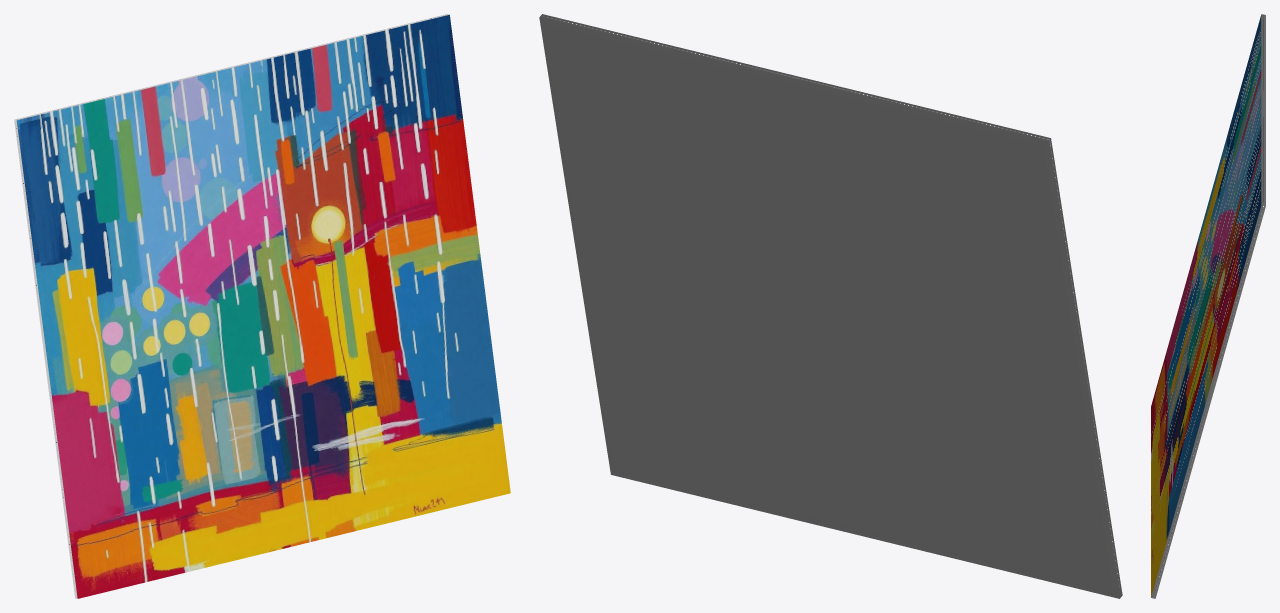
File: single_artwork_gloss.glb
3 views of the same model, side by side, from view 1: azimuth 30°, elevation 25°; view 2: azimuth 150°, elevation 25°; view 3: azimuth 270°, elevation 25° (orthographic). The views are drawn at different scales.
Parts seen in each view (by area): view 1: square artwork; view 2: square artwork; view 3: square artwork.
Boxes of the visible parts, x1,y1,x2,y2 form: square artwork: (14, 14, 510, 598); square artwork: (539, 14, 1122, 598); square artwork: (1151, 14, 1265, 598).
Size of the model in its own units: 0.5956 by 0.5716 by 0.1512.
Materials: 2 (1 with a texture image).
